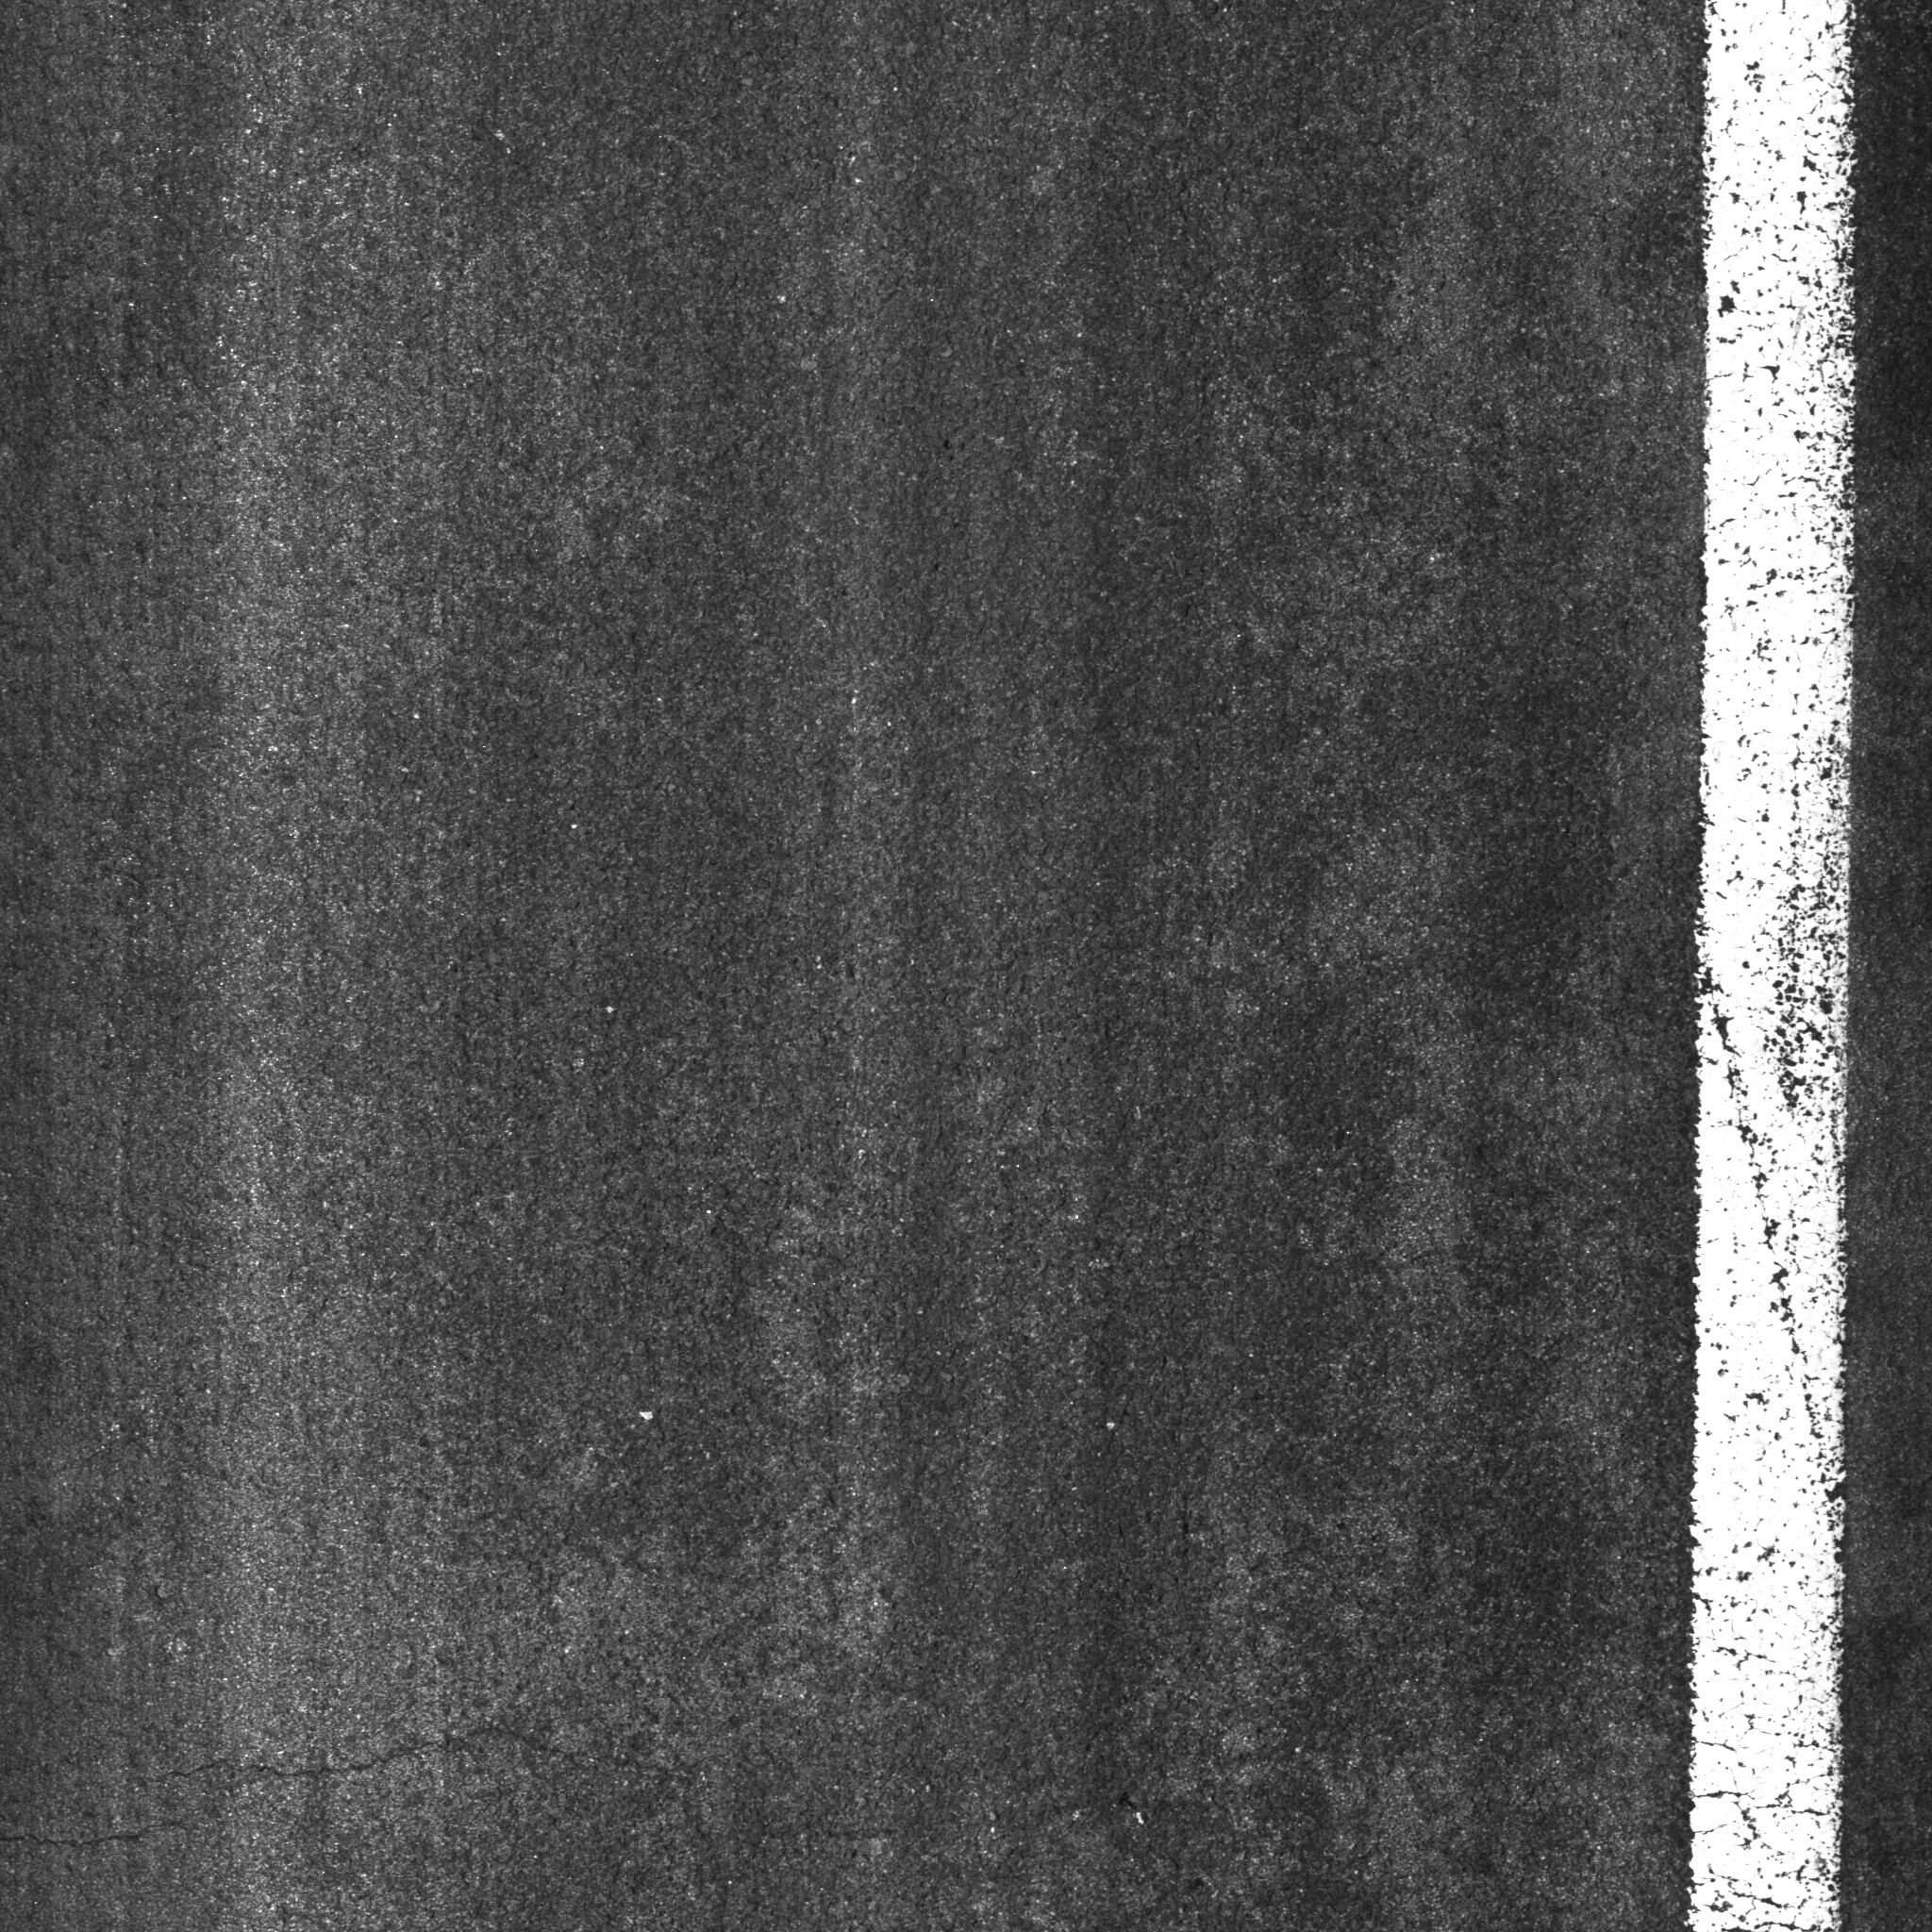transeverse: (4, 1716, 695, 1858)
